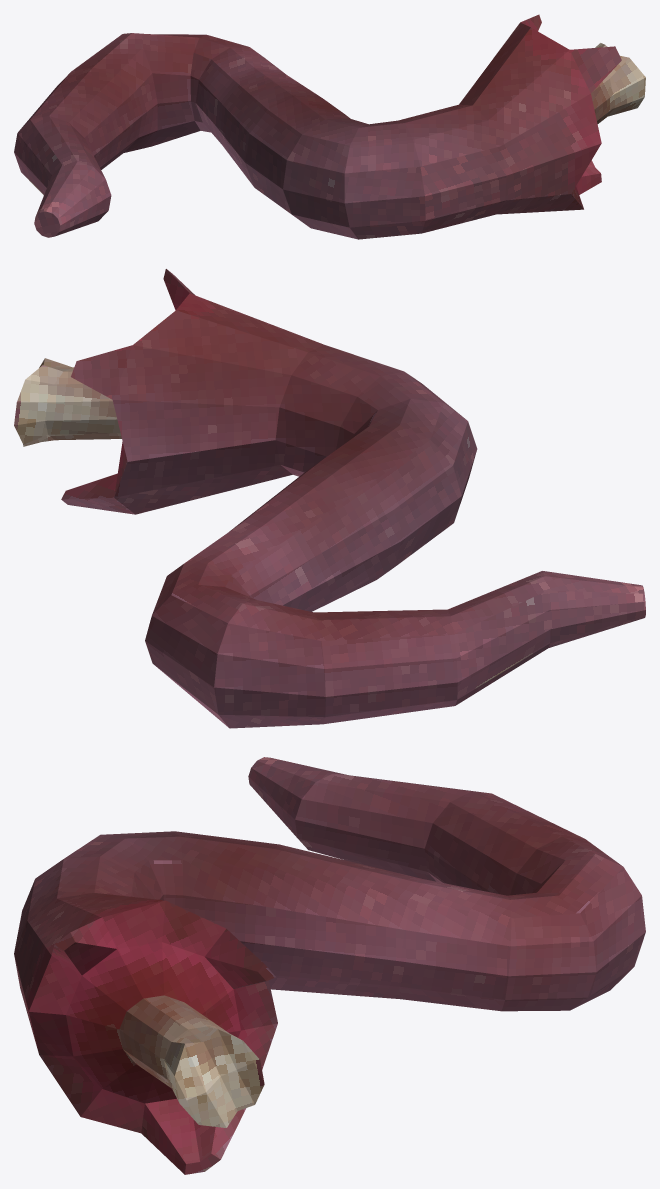
File: rat_tail.glb
3 renders of one model, top to bottom at view 1: azimuth 30°, elevation 25°; view 2: azimuth 150°, elevation 25°; view 3: azimuth 270°, elevation 25°, orthographic. The views are drawn at different scales.
Visible parts, largest first — view 1: ogon_szczura; view 2: ogon_szczura; view 3: ogon_szczura.
Boxes of the visible parts, x1,y1,x2,y2 form: ogon_szczura: [14, 14, 645, 239]; ogon_szczura: [14, 269, 645, 728]; ogon_szczura: [14, 757, 645, 1174].
Bounding box in the file's own units: 0.382 × 0.1183 × 0.2895.
1 material, 1 textured.
